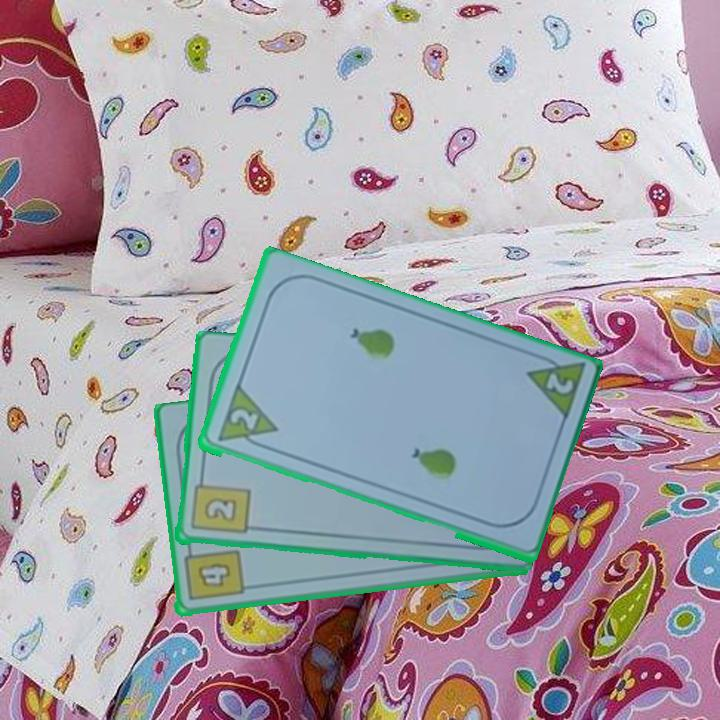2b: (187, 472, 251, 538)
2p: (226, 405, 261, 434), (541, 369, 576, 398)
4b: (180, 541, 246, 604)
